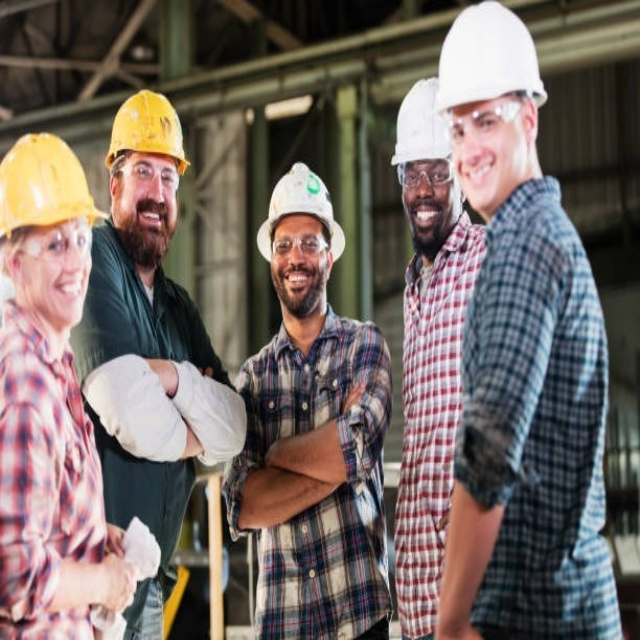Gafas: (444, 99, 527, 144), (14, 225, 92, 259), (115, 160, 181, 193), (399, 163, 455, 190), (272, 235, 330, 257)
Mascara: (0, 268, 15, 319)
Sin_guantes: (89, 544, 143, 615)
Sin_mascara: (458, 154, 502, 201), (53, 271, 87, 309), (412, 202, 444, 240), (136, 202, 168, 237), (279, 267, 313, 296)
